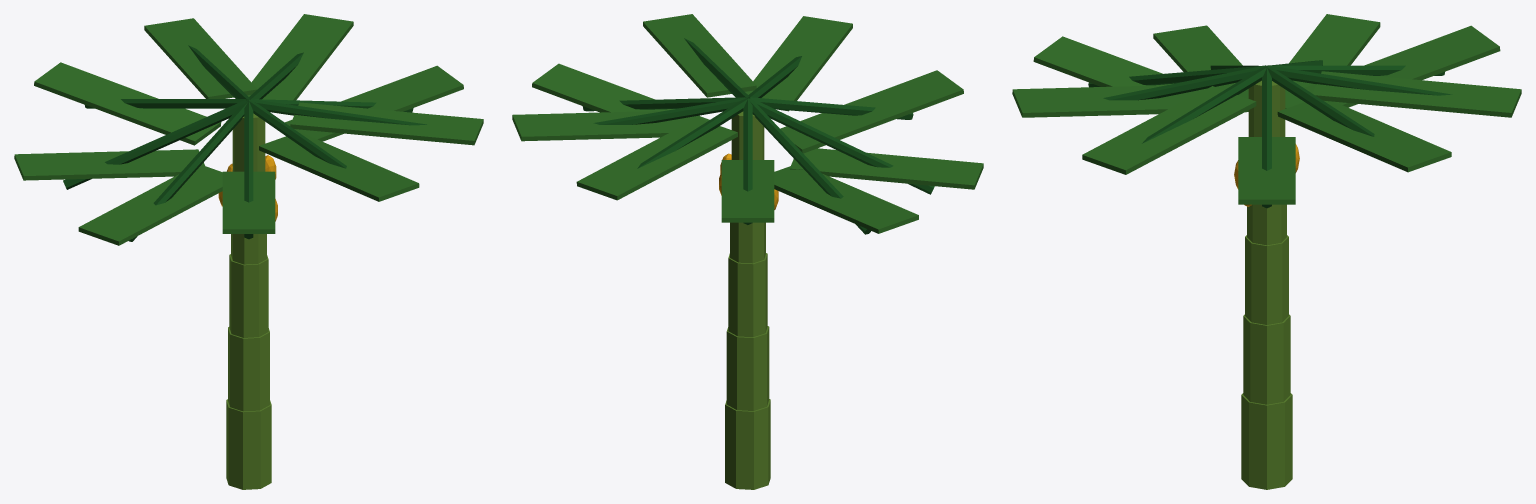
Rendered from PohonPisang.obj.
3 views of the same model, side by side, from view 1: azimuth 30°, elevation 25°; view 2: azimuth 150°, elevation 25°; view 3: azimuth 270°, elevation 25° (orthographic). The views are drawn at different scales.
Parts seen in each view (by area): view 1: LEAF_3, LEAF_8, LEAF_5, LEAF_4, LEAF_1, LEAF_7, LEAF_2, STEM_0, LEAF_6, STEM_1, LEAF_0, STEM_2 (+11 smaller); view 2: LEAF_6, LEAF_2, LEAF_5, LEAF_7, LEAF_8, LEAF_4, LEAF_1, STEM_0, STEM_1, LEAF_3, LEAF_0, STEM_2 (+11 smaller); view 3: LEAF_8, LEAF_2, LEAF_1, STEM_0, LEAF_7, STEM_1, LEAF_0, LEAF_3, STEM_2, LEAF_6, LEAF_4, LEAF_5 (+9 smaller).
Boxes of the visible parts, box(x1,y1,x2,y2) form: LEAF_3: box(34, 62, 221, 145); LEAF_8: box(290, 102, 483, 145); LEAF_5: box(78, 165, 222, 245); LEAF_4: box(14, 149, 204, 180); LEAF_1: box(247, 14, 353, 100); LEAF_7: box(259, 131, 419, 201); LEAF_2: box(144, 18, 257, 98); STEM_0: box(226, 399, 271, 489); LEAF_6: box(222, 171, 275, 233); STEM_1: box(228, 327, 269, 411); LEAF_0: box(285, 65, 463, 141); STEM_2: box(229, 254, 268, 337); LEAF_6: box(780, 70, 963, 153); LEAF_2: box(576, 118, 737, 200); LEAF_5: box(789, 148, 983, 189); LEAF_7: box(745, 16, 852, 111); LEAF_8: box(643, 14, 756, 97); LEAF_4: box(774, 166, 918, 233); LEAF_1: box(512, 111, 700, 141); STEM_0: box(725, 399, 770, 489); STEM_1: box(726, 326, 769, 410); LEAF_3: box(721, 160, 774, 222); LEAF_0: box(532, 63, 709, 121); STEM_2: box(728, 253, 767, 337); LEAF_8: box(1082, 86, 1256, 174); LEAF_2: box(1312, 71, 1521, 117); LEAF_1: box(1277, 101, 1451, 172); STEM_0: box(1241, 393, 1292, 489); LEAF_7: box(1012, 85, 1206, 117); STEM_1: box(1243, 314, 1290, 404); LEAF_0: box(1238, 137, 1295, 204); LEAF_3: box(1304, 25, 1500, 107); STEM_2: box(1245, 235, 1288, 324); LEAF_6: box(1033, 36, 1173, 86); LEAF_4: box(1285, 14, 1380, 108); LEAF_5: box(1153, 25, 1248, 112).
Bounding box in the file's own units: 3.34 × 3.04 × 3.39.
